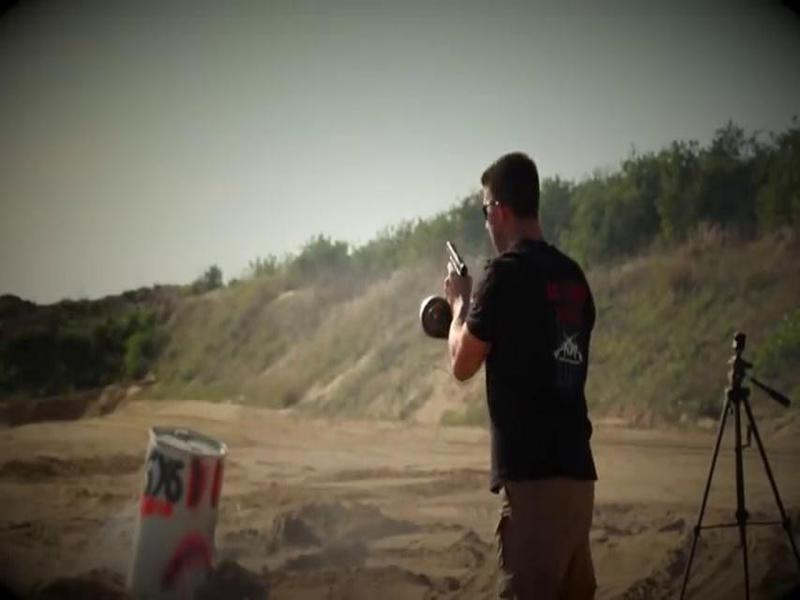Pistola: (431, 232, 481, 301)
